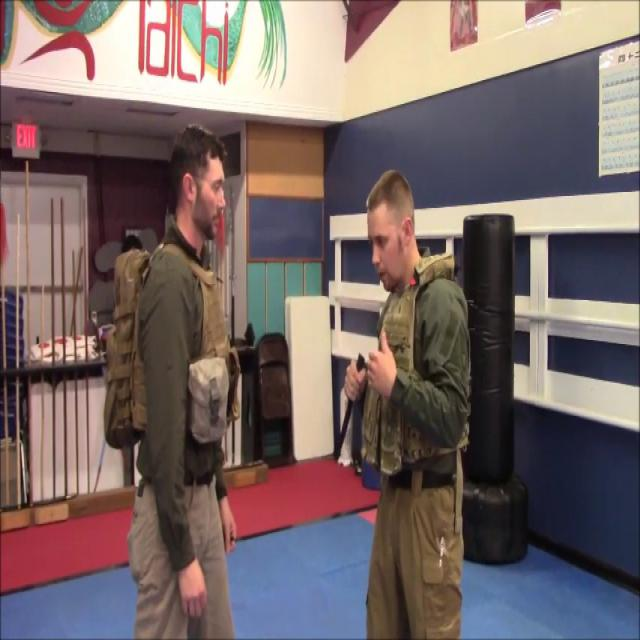knife: (330, 348, 366, 466)
